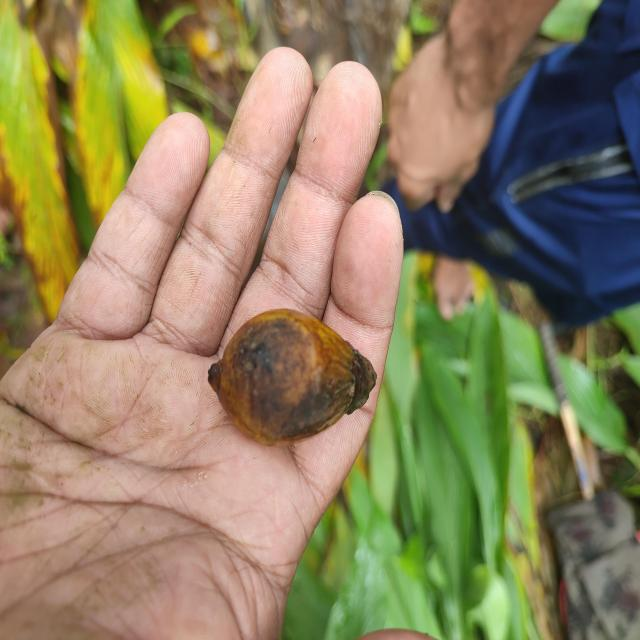damaged: (208, 309, 376, 445)
